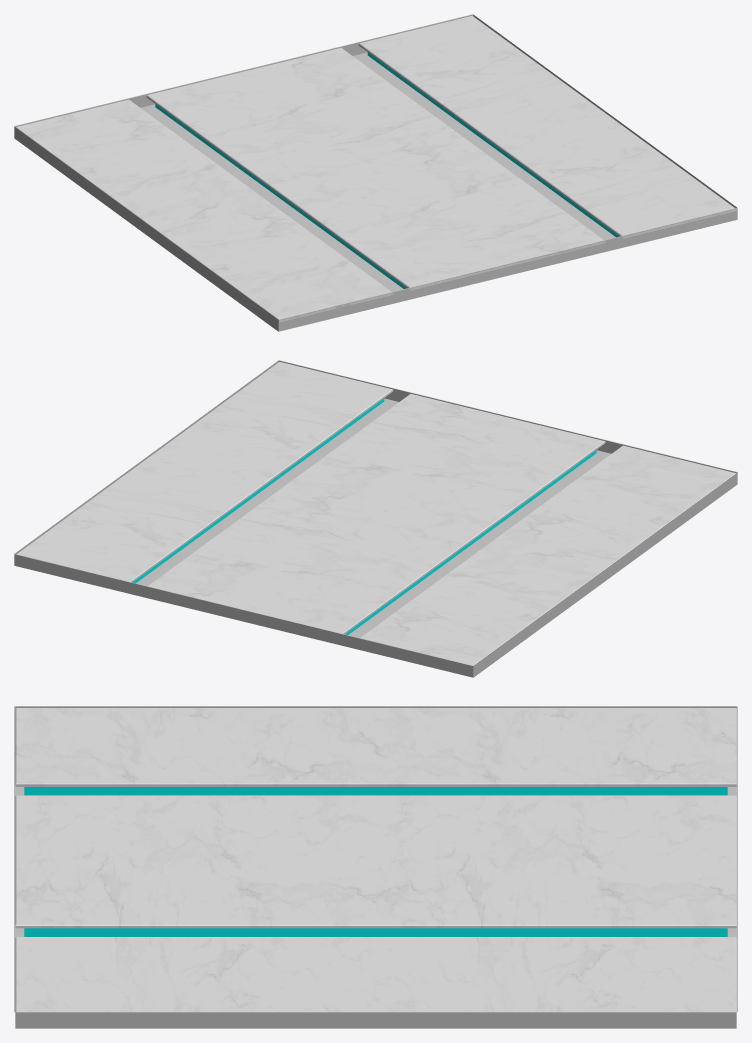
3 renders of one model, top to bottom at view 1: azimuth 30°, elevation 25°; view 2: azimuth 150°, elevation 25°; view 3: azimuth 270°, elevation 25°, orthographic. The views are drawn at different scales.
Parts seen in each view (by area): view 1: M_C_003_a_8x8; view 2: M_C_003_a_8x8; view 3: M_C_003_a_8x8.
Part boxes in pixels (<box>): M_C_003_a_8x8: <box>14,14,737,331</box>; M_C_003_a_8x8: <box>14,360,737,677</box>; M_C_003_a_8x8: <box>14,706,737,1028</box>.
Size of the model in its own units: 8 by 0.2 by 8.
